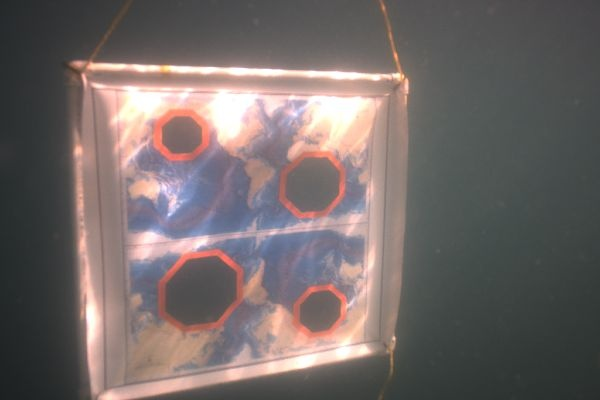torpille: (69, 60, 403, 400)
torpille_target: (156, 249, 244, 330), (280, 152, 346, 216), (154, 109, 210, 161), (292, 286, 346, 336)
